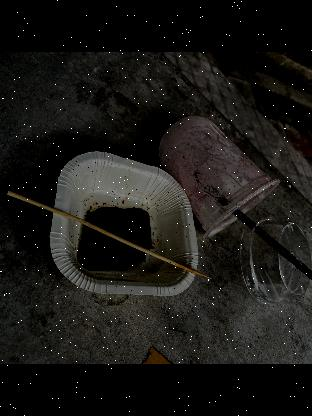Others: (0, 180, 218, 290), (47, 147, 197, 291), (158, 114, 284, 228), (225, 205, 312, 294), (246, 215, 310, 305)
